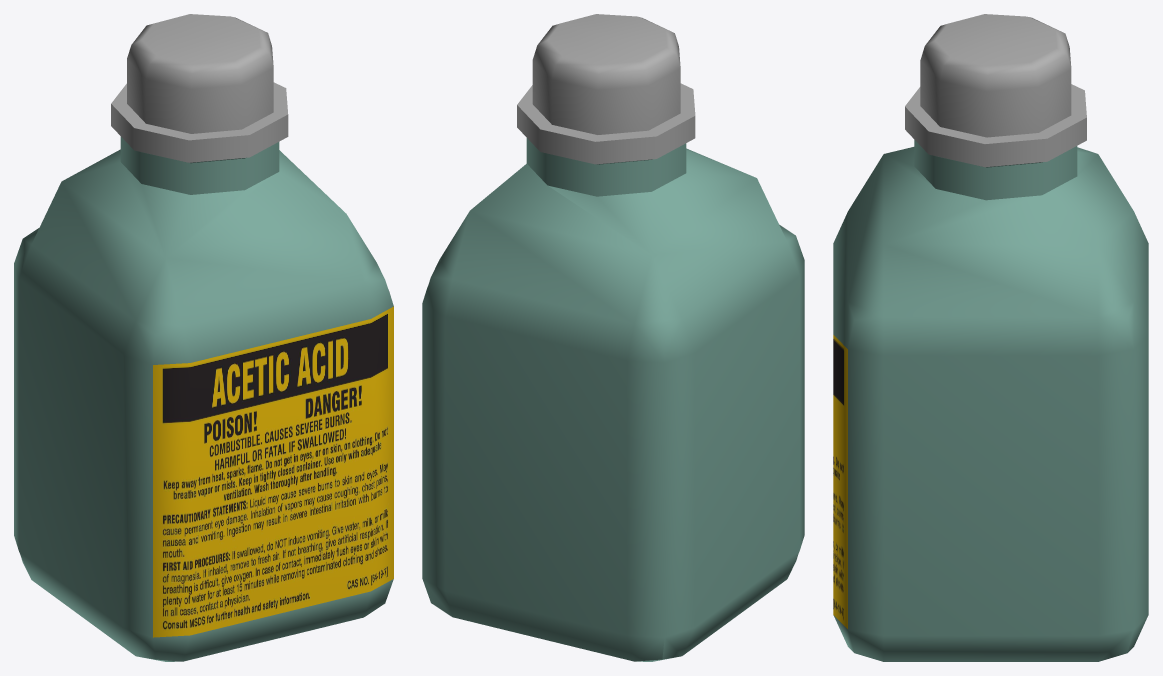
Rendered from Chemical Bottle.fbx.
3 renders of one model, left to right at view 1: azimuth 30°, elevation 25°; view 2: azimuth 150°, elevation 25°; view 3: azimuth 270°, elevation 25°, orthographic. The views are drawn at different scales.
Parts seen in each view (by area): view 1: Chemical_bottle; view 2: Chemical_bottle; view 3: Chemical_bottle.
Part boxes in pixels (x1,y1,x2,y2): Chemical_bottle: [14, 14, 393, 661]; Chemical_bottle: [422, 14, 804, 661]; Chemical_bottle: [833, 14, 1148, 661].
Size of the model in its own units: 13.81 by 27.81 by 13.81.
Materials: 3 (1 with a texture image).
